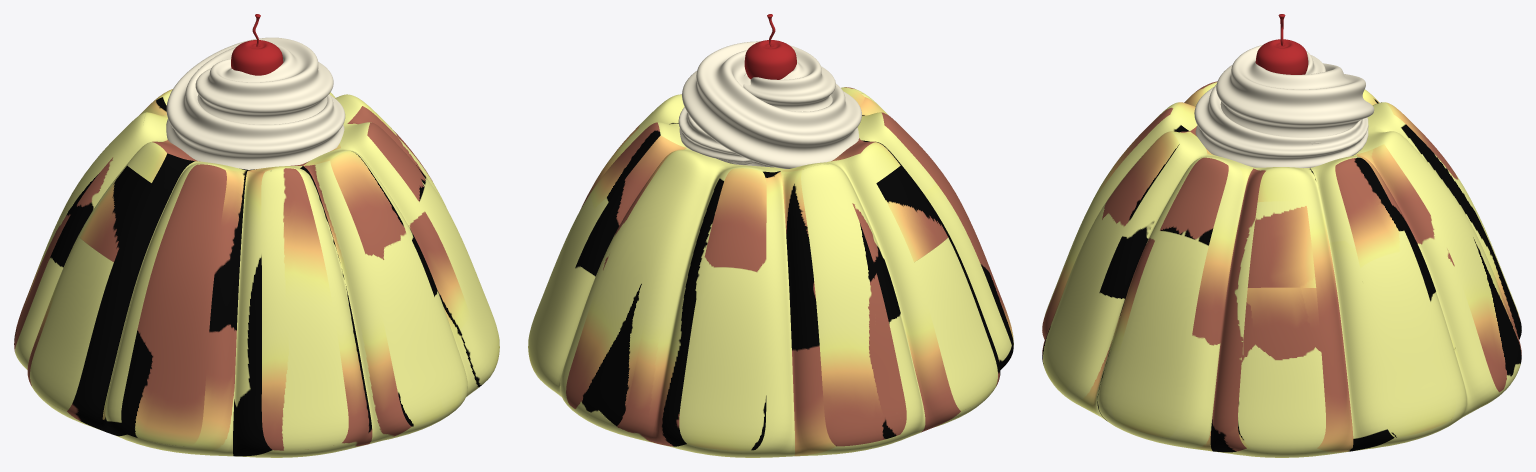
File: 0.Pudding.fbx
3 renders of one model, left to right at view 1: azimuth 30°, elevation 25°; view 2: azimuth 150°, elevation 25°; view 3: azimuth 270°, elevation 25°, orthographic.
Parts seen in each view (by area): view 1: Pudding, Cream, Cherry; view 2: Pudding, Cream, Cherry; view 3: Pudding, Cream, Cherry.
Boxes of the visible parts, x1,y1,x2,y2 form: Pudding: [14, 89, 499, 457]; Cream: [166, 37, 345, 169]; Cherry: [231, 14, 283, 75]; Pudding: [528, 87, 1013, 457]; Cream: [678, 41, 861, 168]; Cherry: [744, 14, 796, 79]; Pudding: [1042, 81, 1521, 457]; Cream: [1194, 45, 1374, 168]; Cherry: [1255, 14, 1308, 74].
Bounding box in the file's own units: 361 × 289 × 357.
